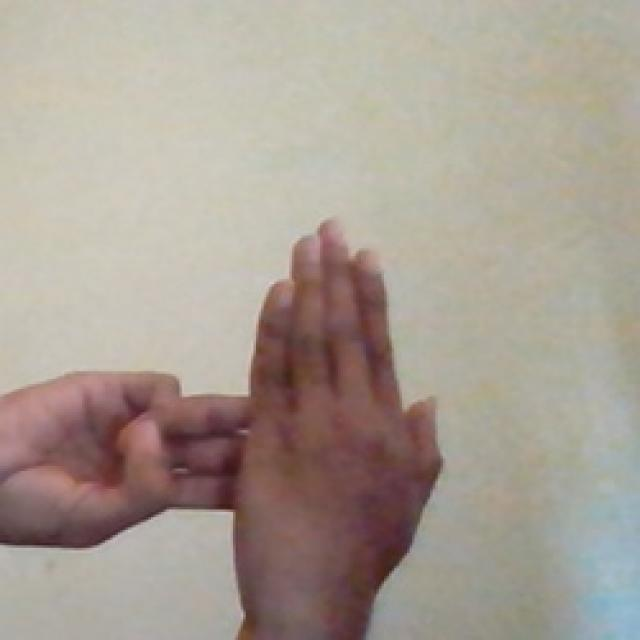Alphabet-M: (0, 212, 451, 584)
